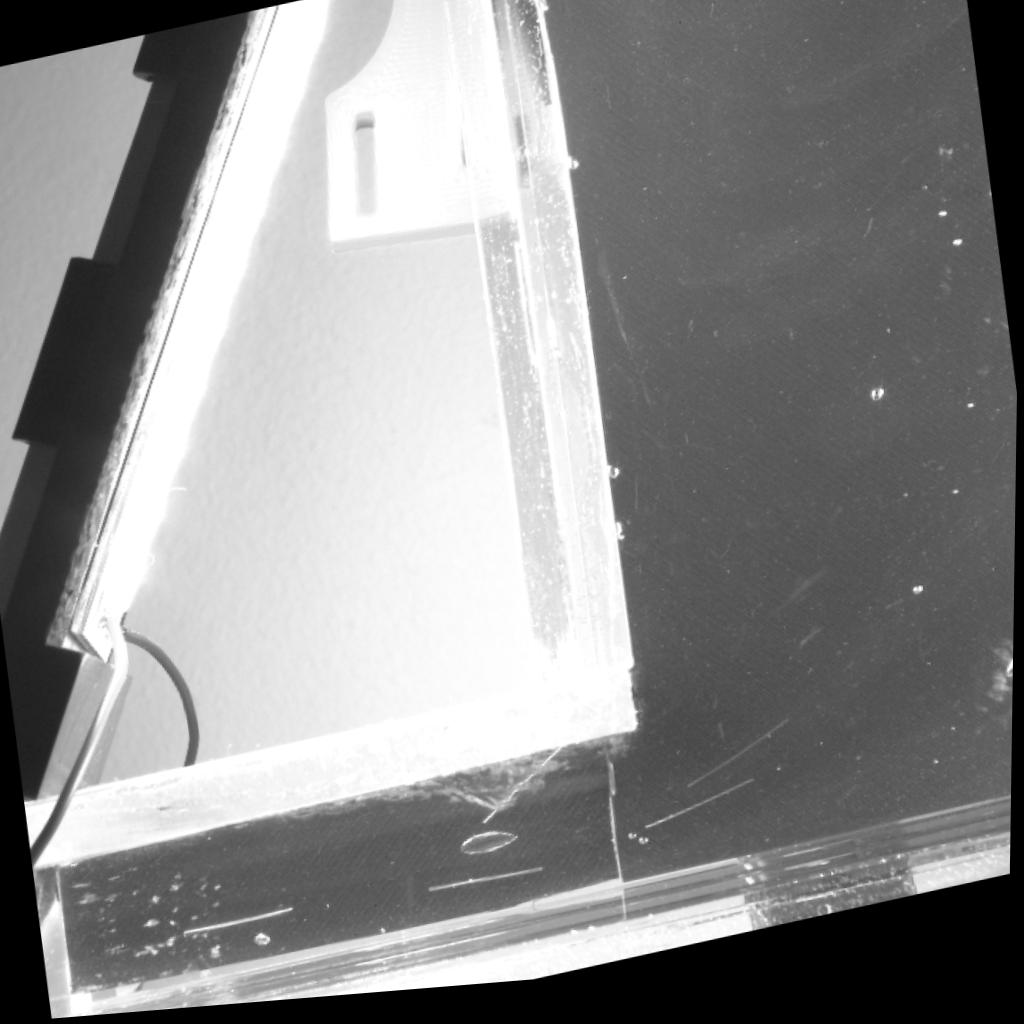Fiber: (686, 728, 794, 805), (482, 755, 571, 838), (646, 787, 760, 844), (430, 869, 549, 905), (185, 907, 299, 943)
